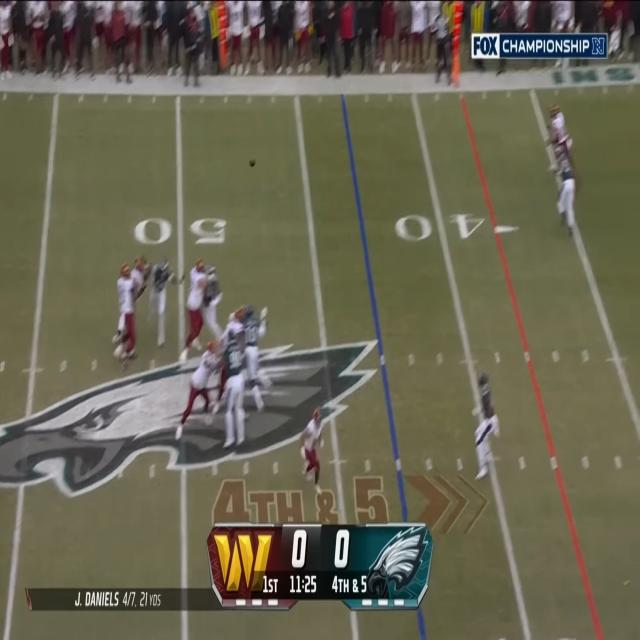Ball: (247, 158, 258, 168)
